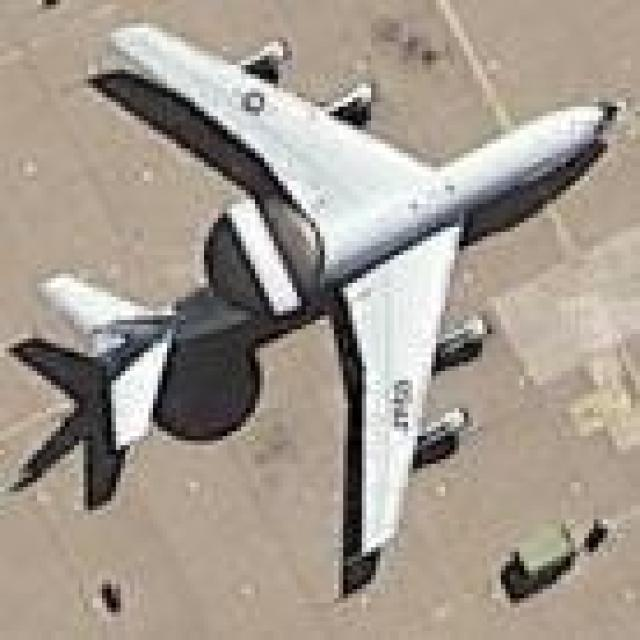E-3_TopDown: (0, 13, 621, 598)
